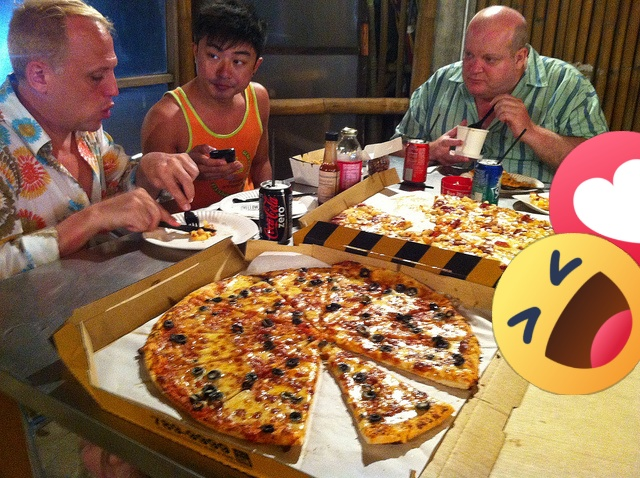haha: (492, 233, 640, 395)
love: (549, 131, 640, 277)
